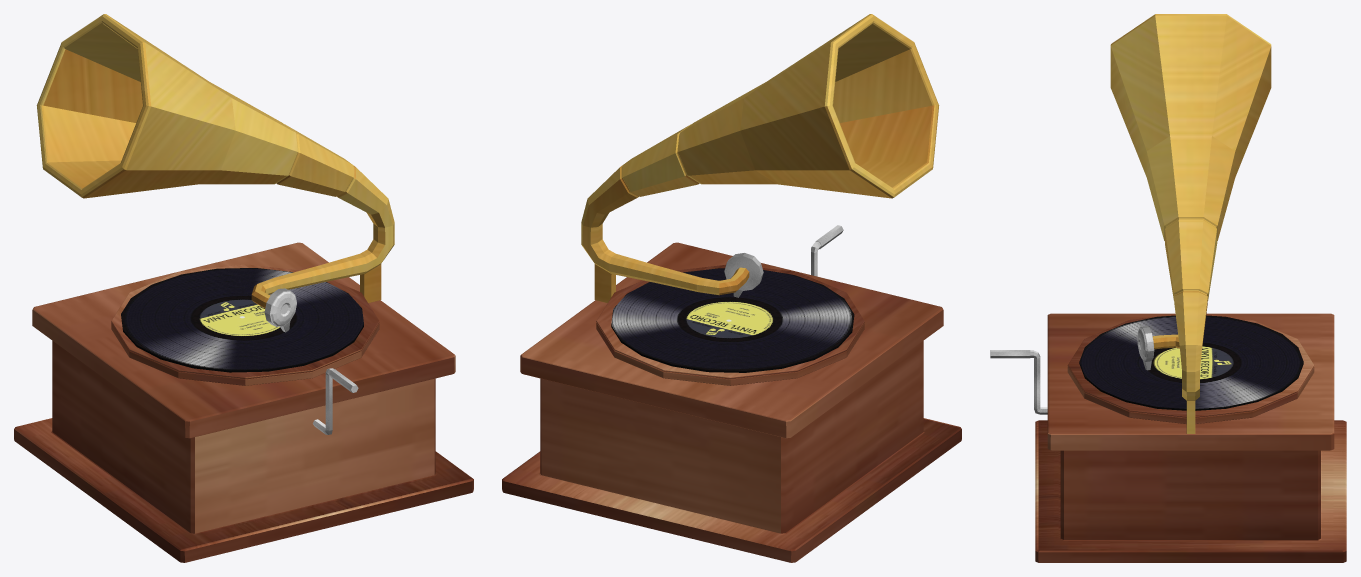
The model's file is Gramofono.obj.
3 views of the same model, side by side, from view 1: azimuth 30°, elevation 25°; view 2: azimuth 150°, elevation 25°; view 3: azimuth 270°, elevation 25° (orthographic). The views are drawn at different scales.
Parts seen in each view (by area): view 1: Gramofono1:pCylinder2; view 2: Gramofono1:pCylinder2; view 3: Gramofono1:pCylinder2.
Part boxes in pixels (x1=…): Gramofono1:pCylinder2: x1=14, y1=14, x2=473, y2=562; Gramofono1:pCylinder2: x1=502, y1=14, x2=961, y2=562; Gramofono1:pCylinder2: x1=990, y1=14, x2=1346, y2=562.
Size of the model in its own units: 3.25 by 4.4 by 3.31.
8 materials, 8 textured.
